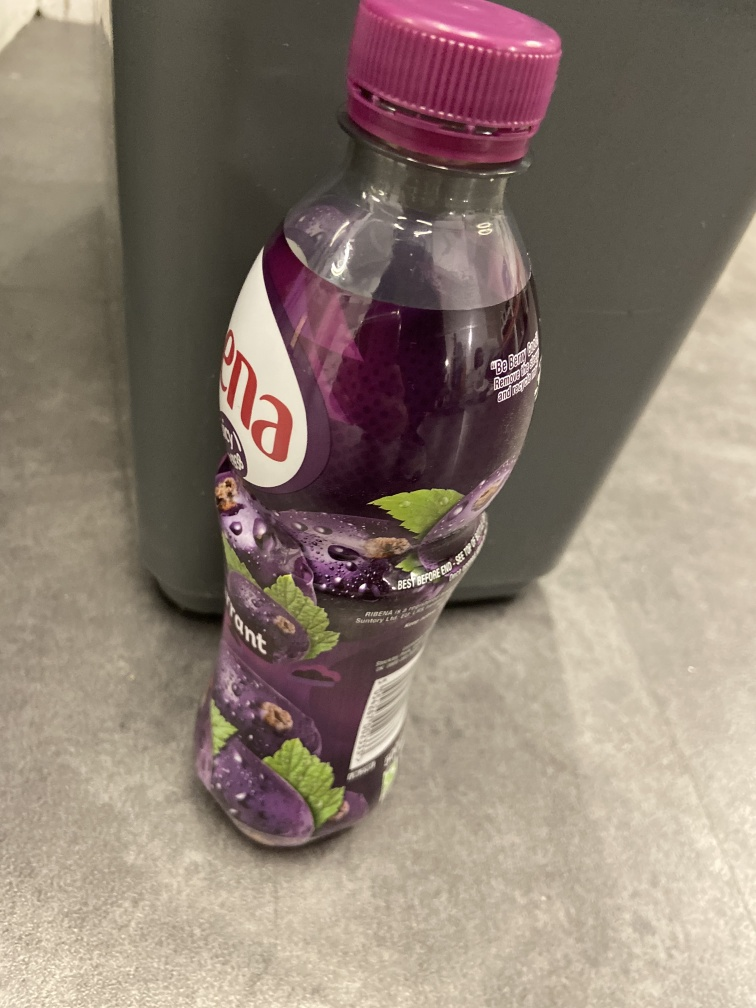bottle_purple: (188, 1, 566, 859)
